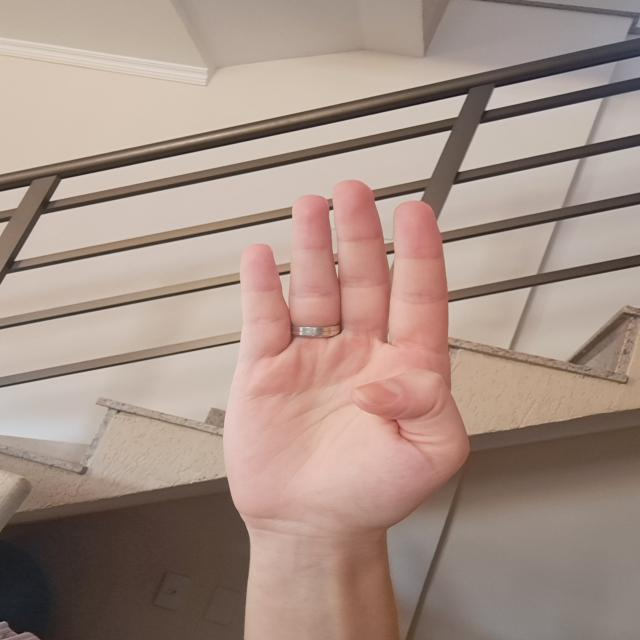B: (217, 175, 476, 530)
